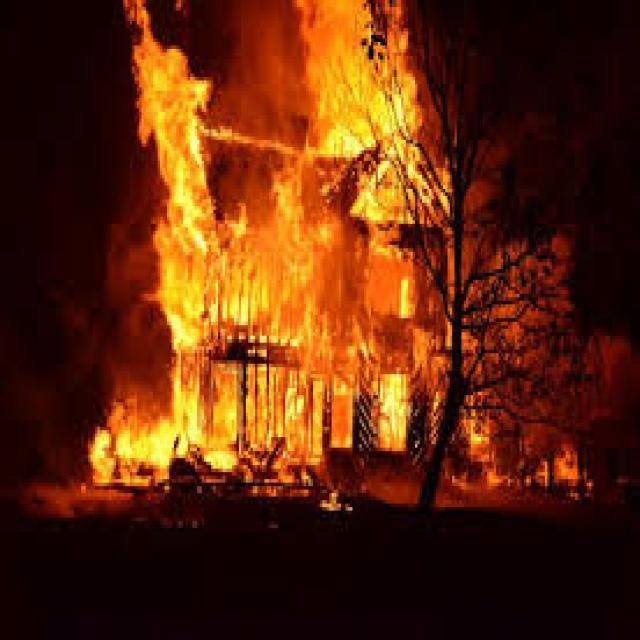Fire: (158, 216, 408, 448), (313, 3, 412, 207), (136, 15, 212, 206)
